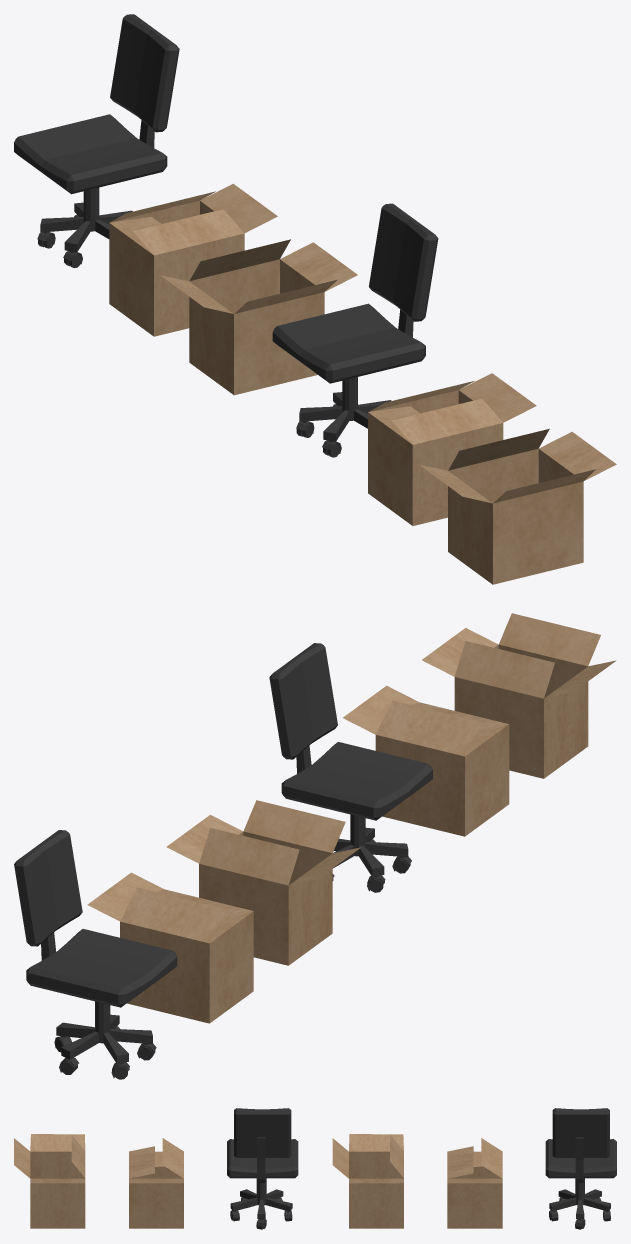
File: Chaise_Carton.fbx
3 views of the same model, one above another, from view 1: azimuth 30°, elevation 25°; view 2: azimuth 150°, elevation 25°; view 3: azimuth 270°, elevation 25° (orthographic). The views are drawn at different scales.
Parts seen in each view (by area): view 1: Carton, Carton.003, Chaise.001, Chaise, Carton.002, Carton.001; view 2: Carton, Carton.003, Chaise.001, Chaise, Carton.001, Carton.002; view 3: Chaise, Chaise.001, Carton, Carton.003, Carton.002, Carton.001.
Part boxes in pixels (x1,y1,x2,y2): Carton: [419, 428, 616, 584]; Carton.003: [160, 239, 357, 395]; Chaise.001: [14, 14, 179, 268]; Chaise: [272, 203, 438, 457]; Carton.002: [109, 183, 277, 336]; Carton.001: [368, 373, 536, 525]; Carton: [422, 613, 616, 778]; Carton.003: [166, 800, 360, 965]; Chaise.001: [14, 830, 177, 1079]; Chaise: [269, 643, 432, 892]; Carton.001: [343, 685, 509, 836]; Carton.002: [87, 872, 253, 1023]; Chaise: [227, 1108, 298, 1229]; Chaise.001: [545, 1108, 616, 1229]; Carton: [14, 1134, 85, 1228]; Carton.003: [332, 1134, 403, 1228]; Carton.002: [447, 1138, 502, 1228]; Carton.001: [129, 1138, 183, 1228].
Bounding box in the file's own units: 396 × 502 × 2185.
